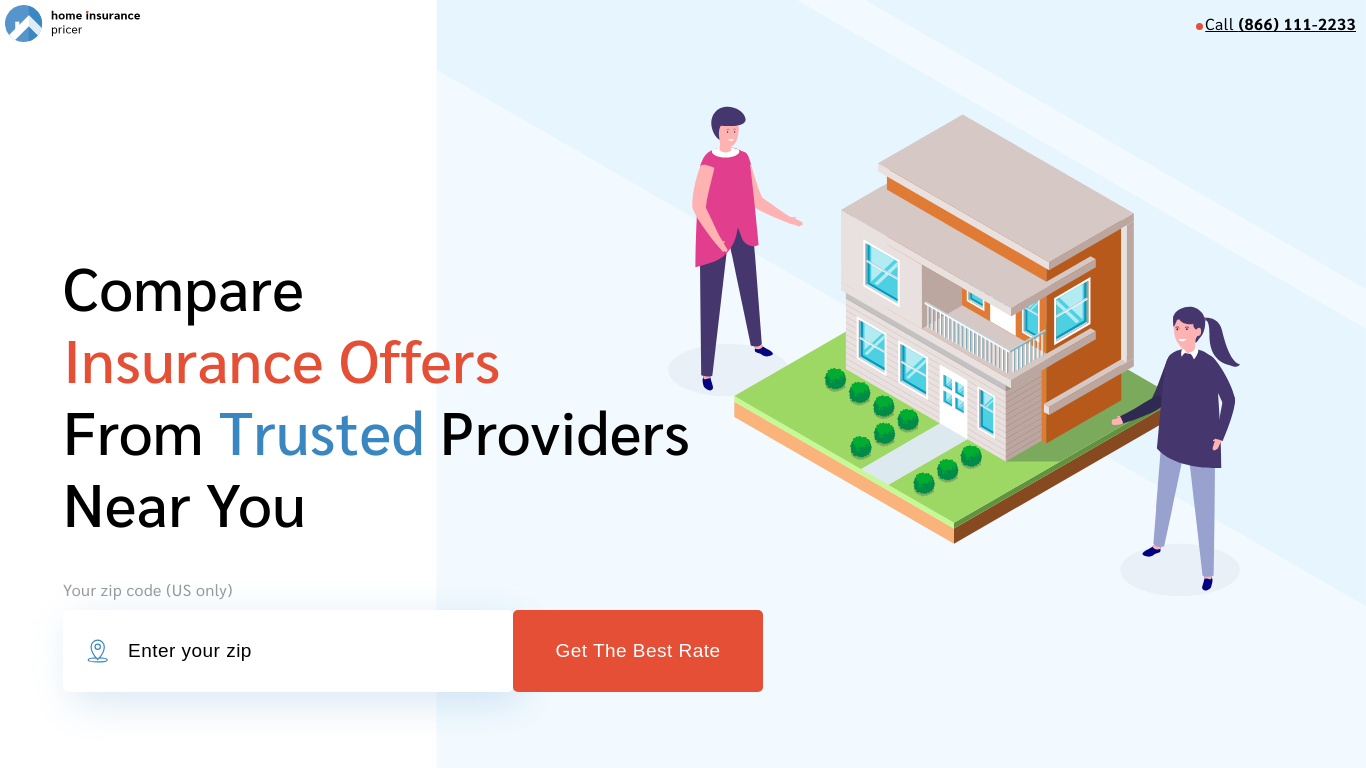
Homepage form › Shows an error when invalid ZIP entered
Step 1. Type "33333" into the field labelled "Your zip code (US only)" → (288, 651), box [63,610,513,692]
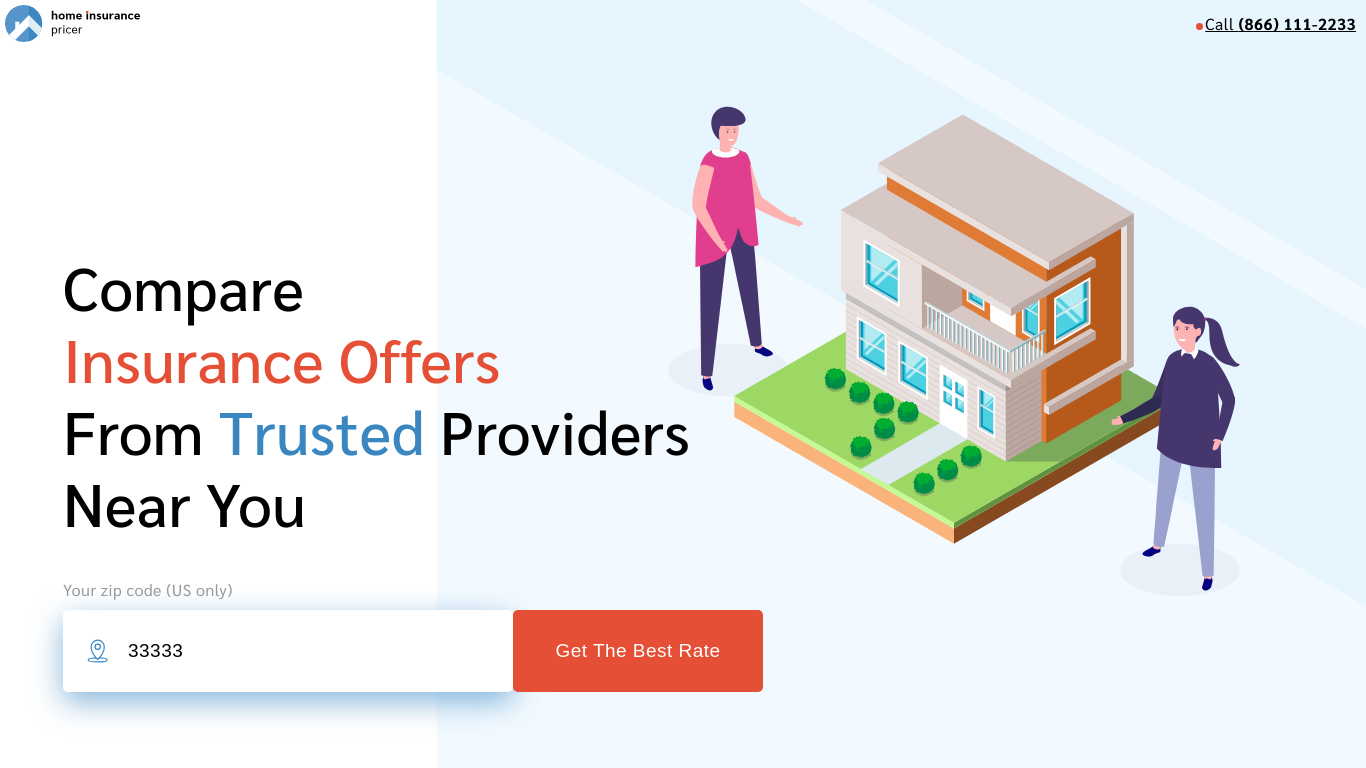
Step 2. Click the button "Get The Best Rate" → (638, 651), box [513,610,763,692]
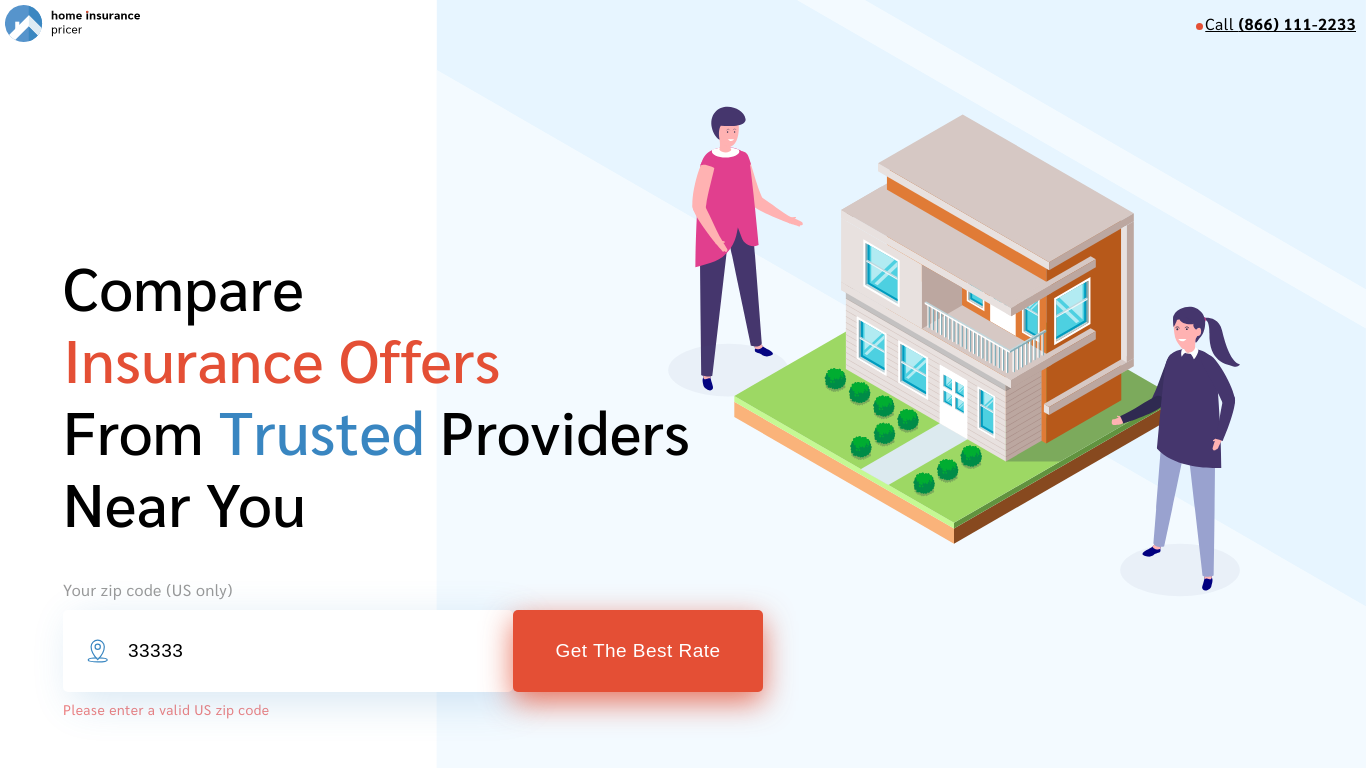
Now the text "Please enter a valid US zip code" is shown, box [63,700,270,718]
